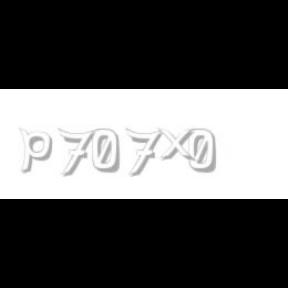0: (189, 128, 220, 174), (92, 128, 122, 174)
7: (58, 128, 94, 178), (126, 128, 162, 178)
p: (20, 128, 56, 174)
x: (157, 128, 199, 162)
